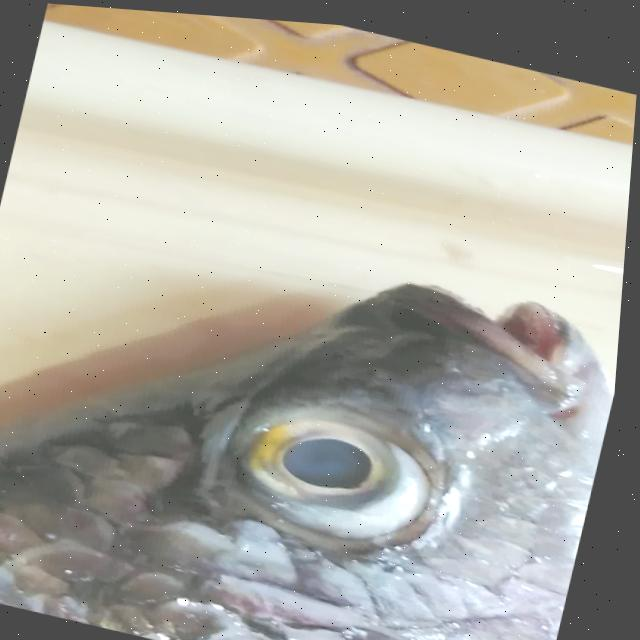Fresh: (210, 368, 498, 576)
